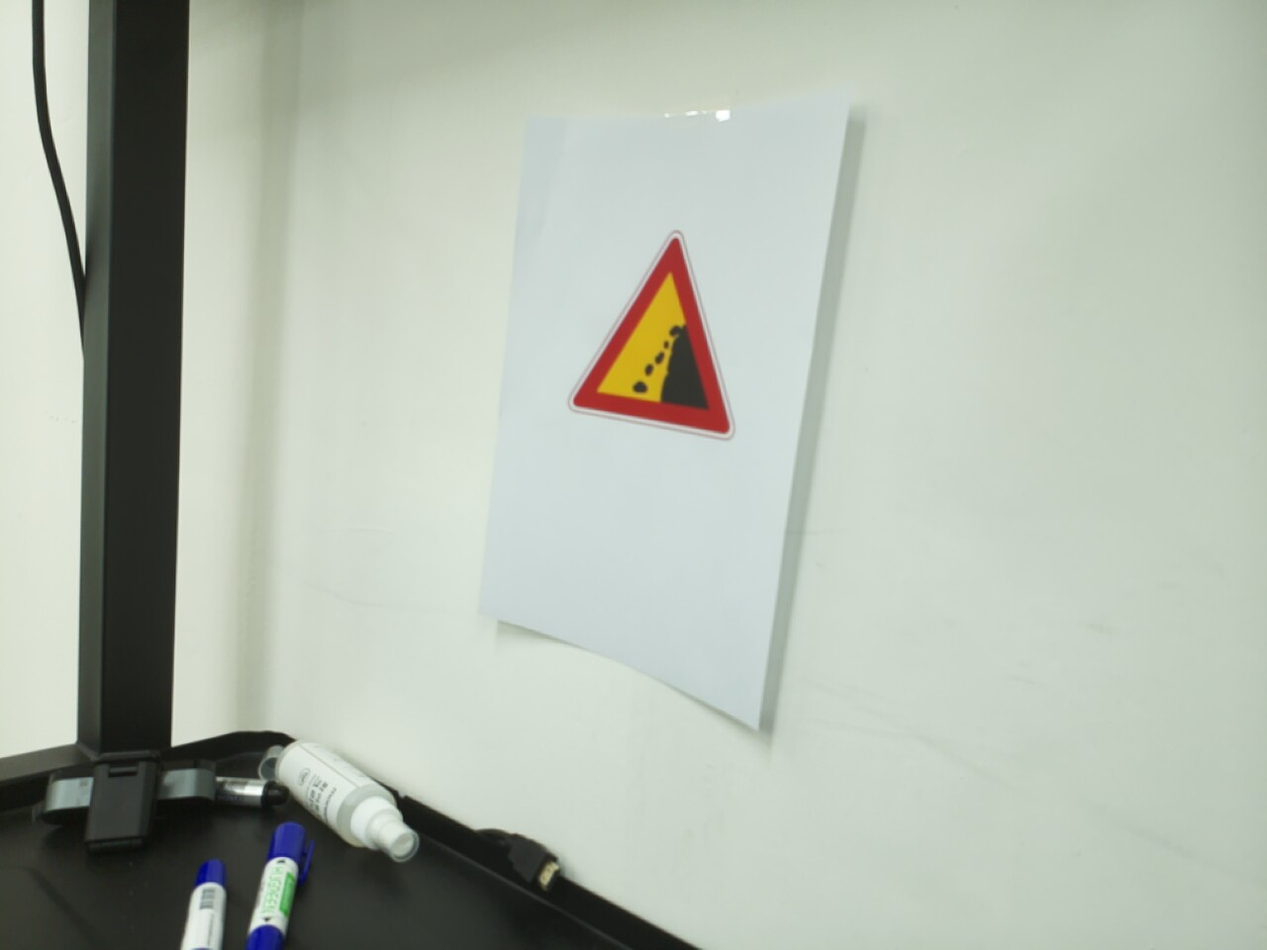falling_rocks: (566, 230, 736, 442)
